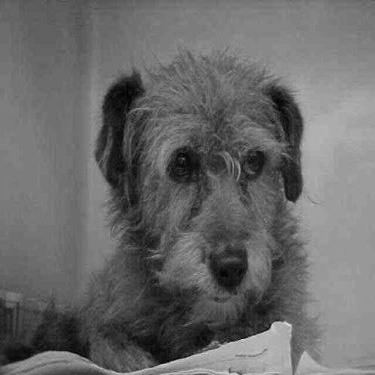dog: (5, 40, 331, 372)
